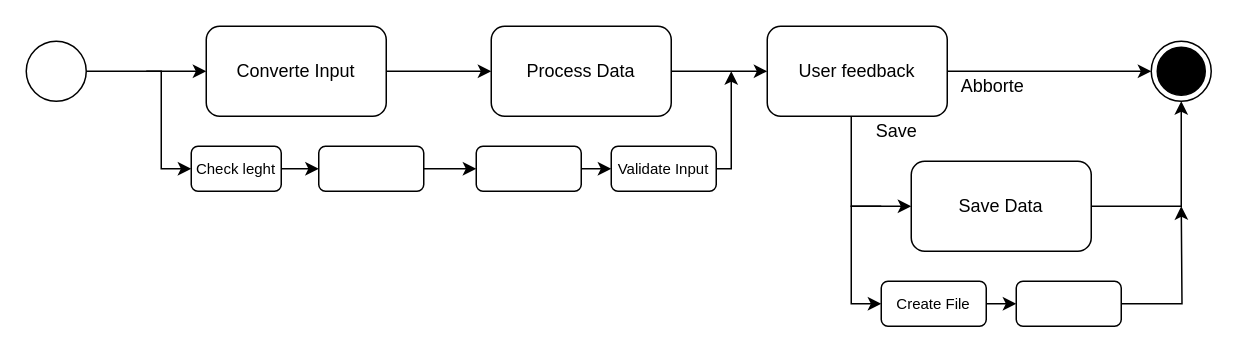
Image size: 1238x353. Some labels were removed from this diagram. Each missing label, with the centre of its shape:
"append entry" belongs at (1068,303).
"Select function" belongs at (528,168).
"Seperate args" belongs at (370,168).
